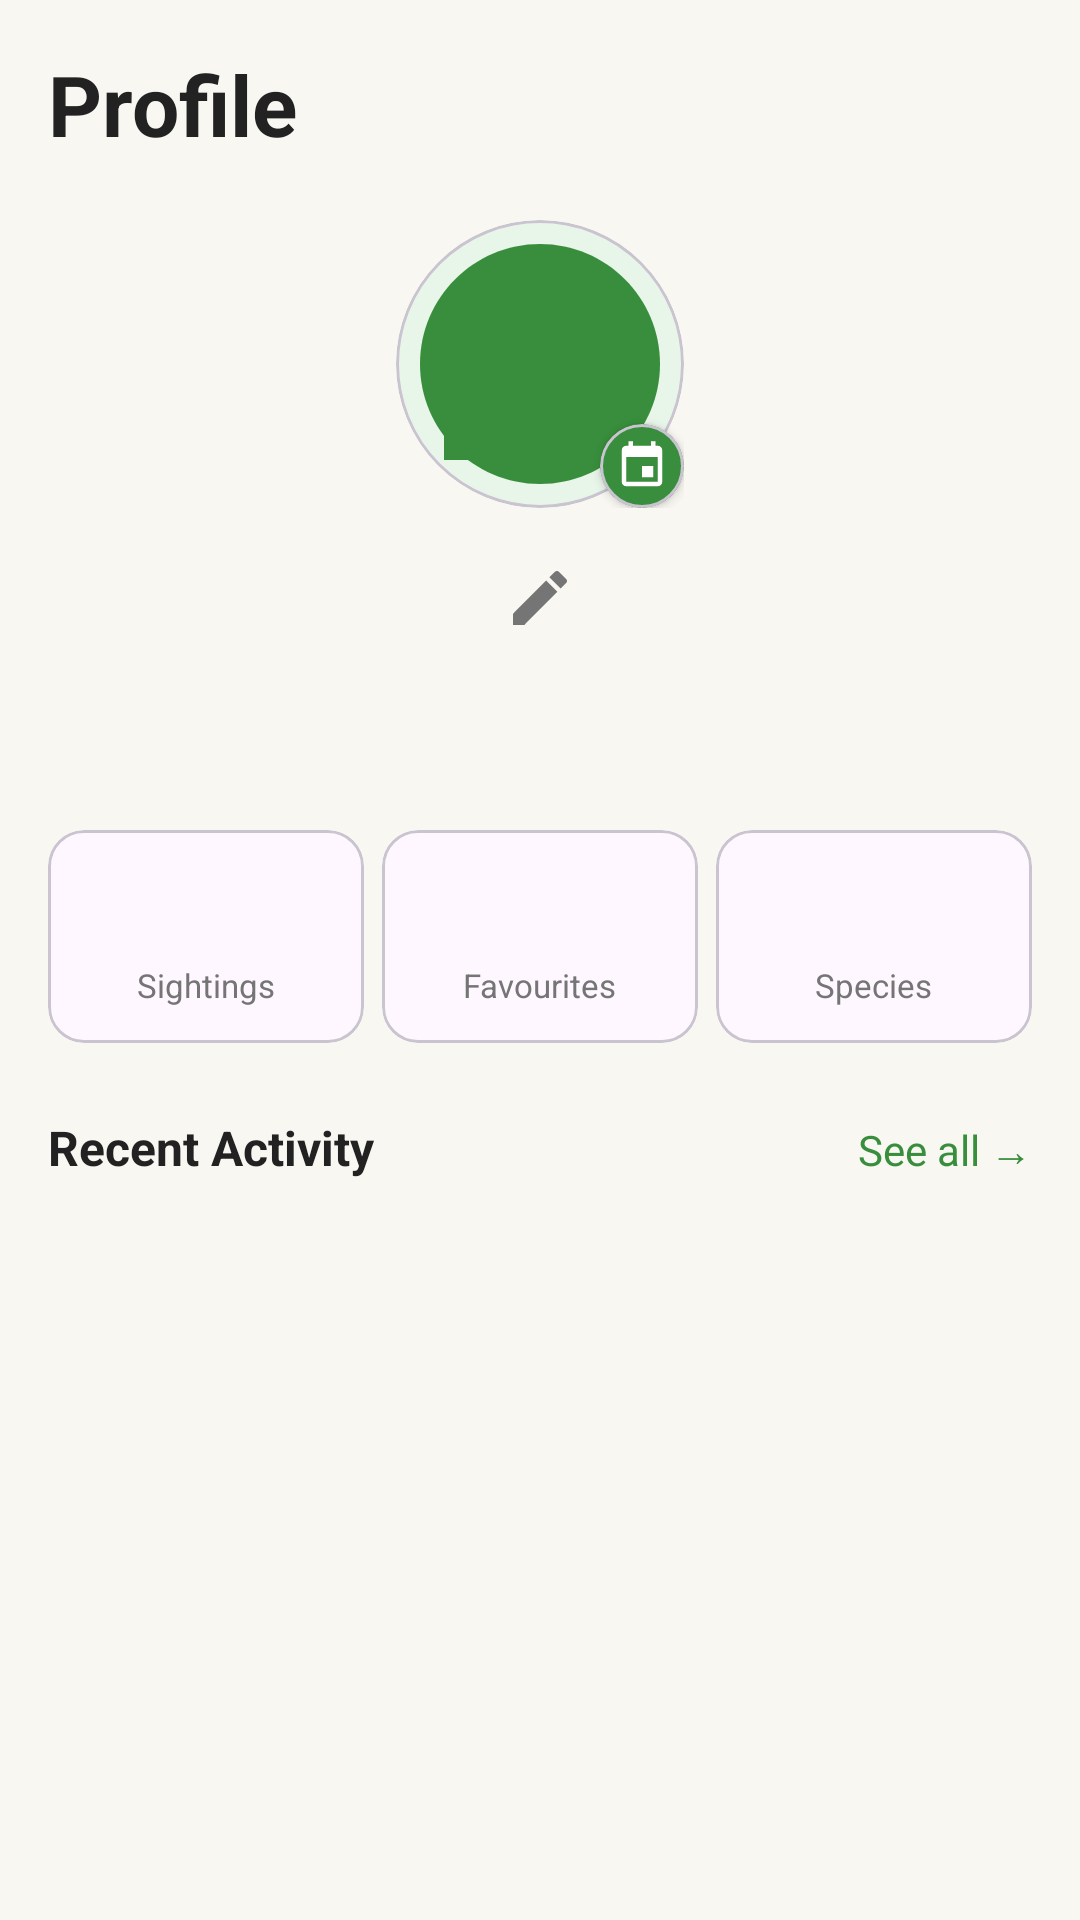

Named icons in this screenshot (1080 × 1920) and their bounding boxes, (x1, y1, x2, y2):
Edit name: (513, 571, 567, 625)
